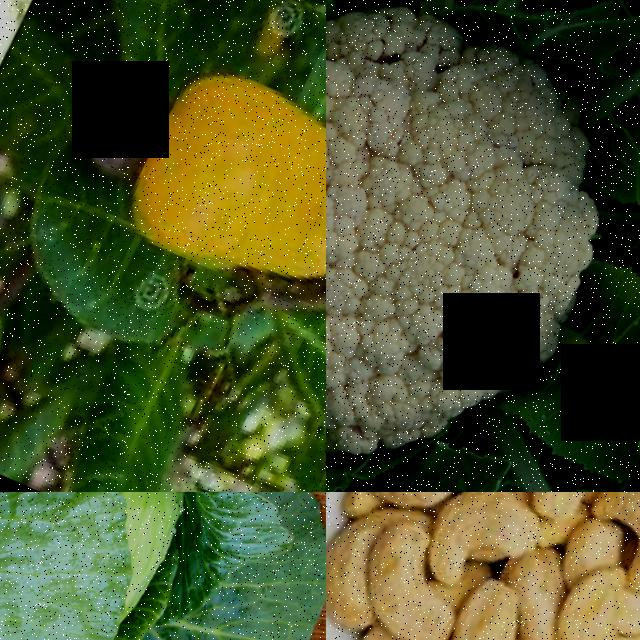cabbage: (0, 492, 326, 640)
cashew: (44, 36, 196, 211), (346, 506, 491, 640), (429, 492, 555, 585), (562, 492, 640, 607), (441, 576, 564, 640), (538, 588, 640, 640), (339, 492, 476, 522), (486, 492, 607, 522)
cauliflower: (326, 0, 640, 492)
